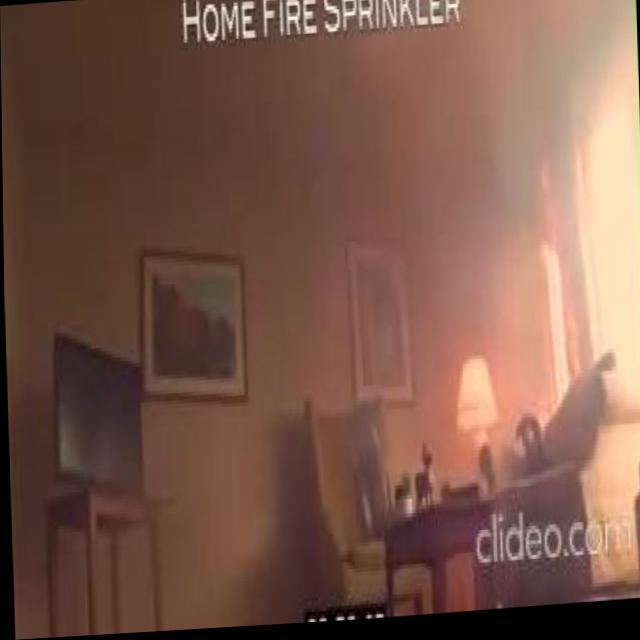fire: (534, 253, 568, 433)
